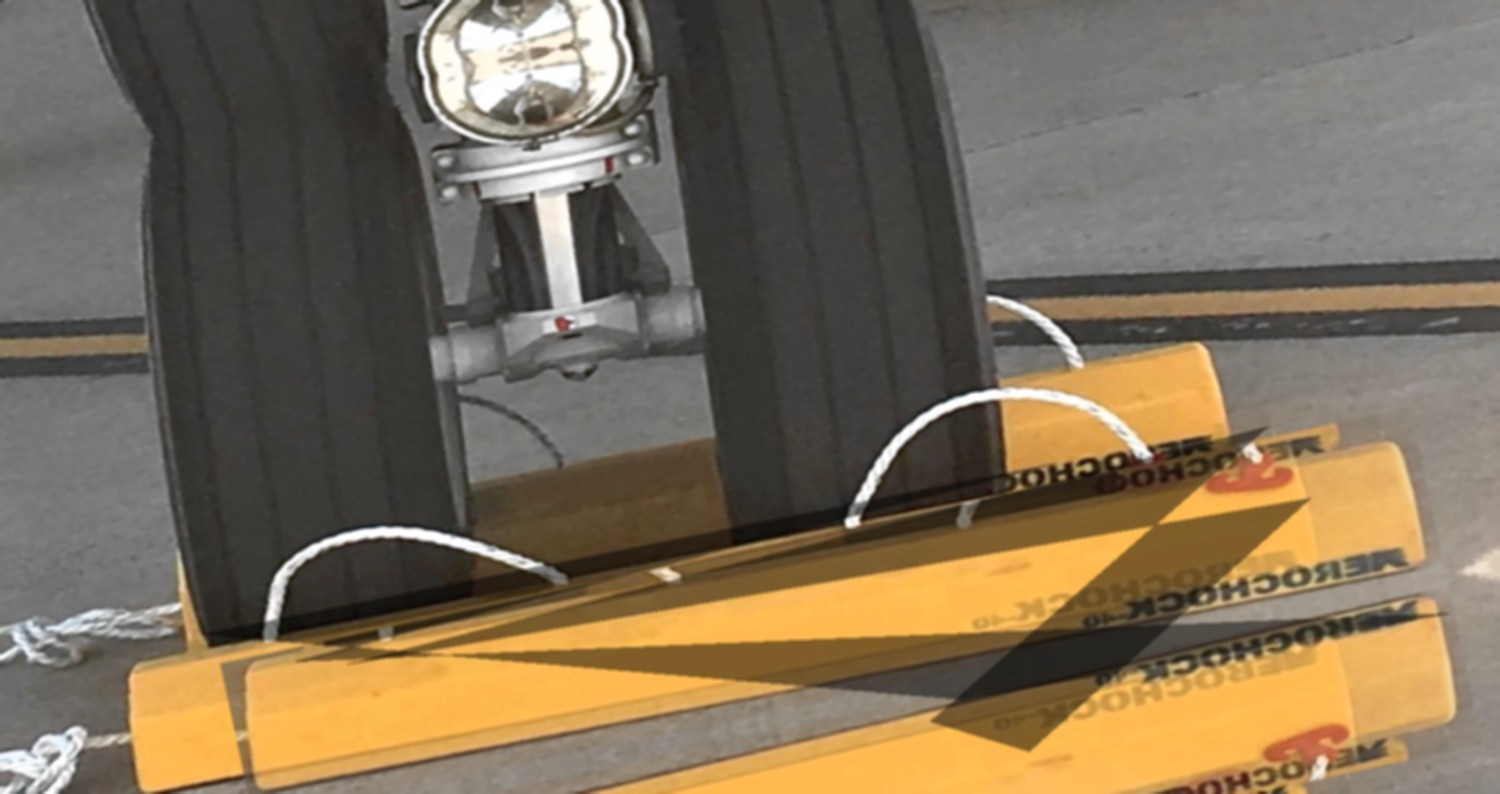chock: (103, 407, 1335, 794), (220, 407, 1444, 794), (141, 318, 1242, 679), (259, 587, 1483, 794), (151, 630, 1383, 794)
wheel: (97, 81, 514, 655), (639, 0, 1039, 552)
